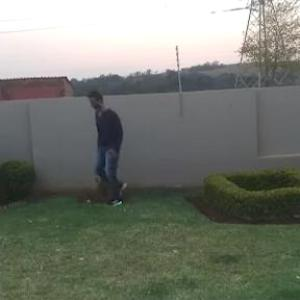follow: (96, 91, 129, 202)
